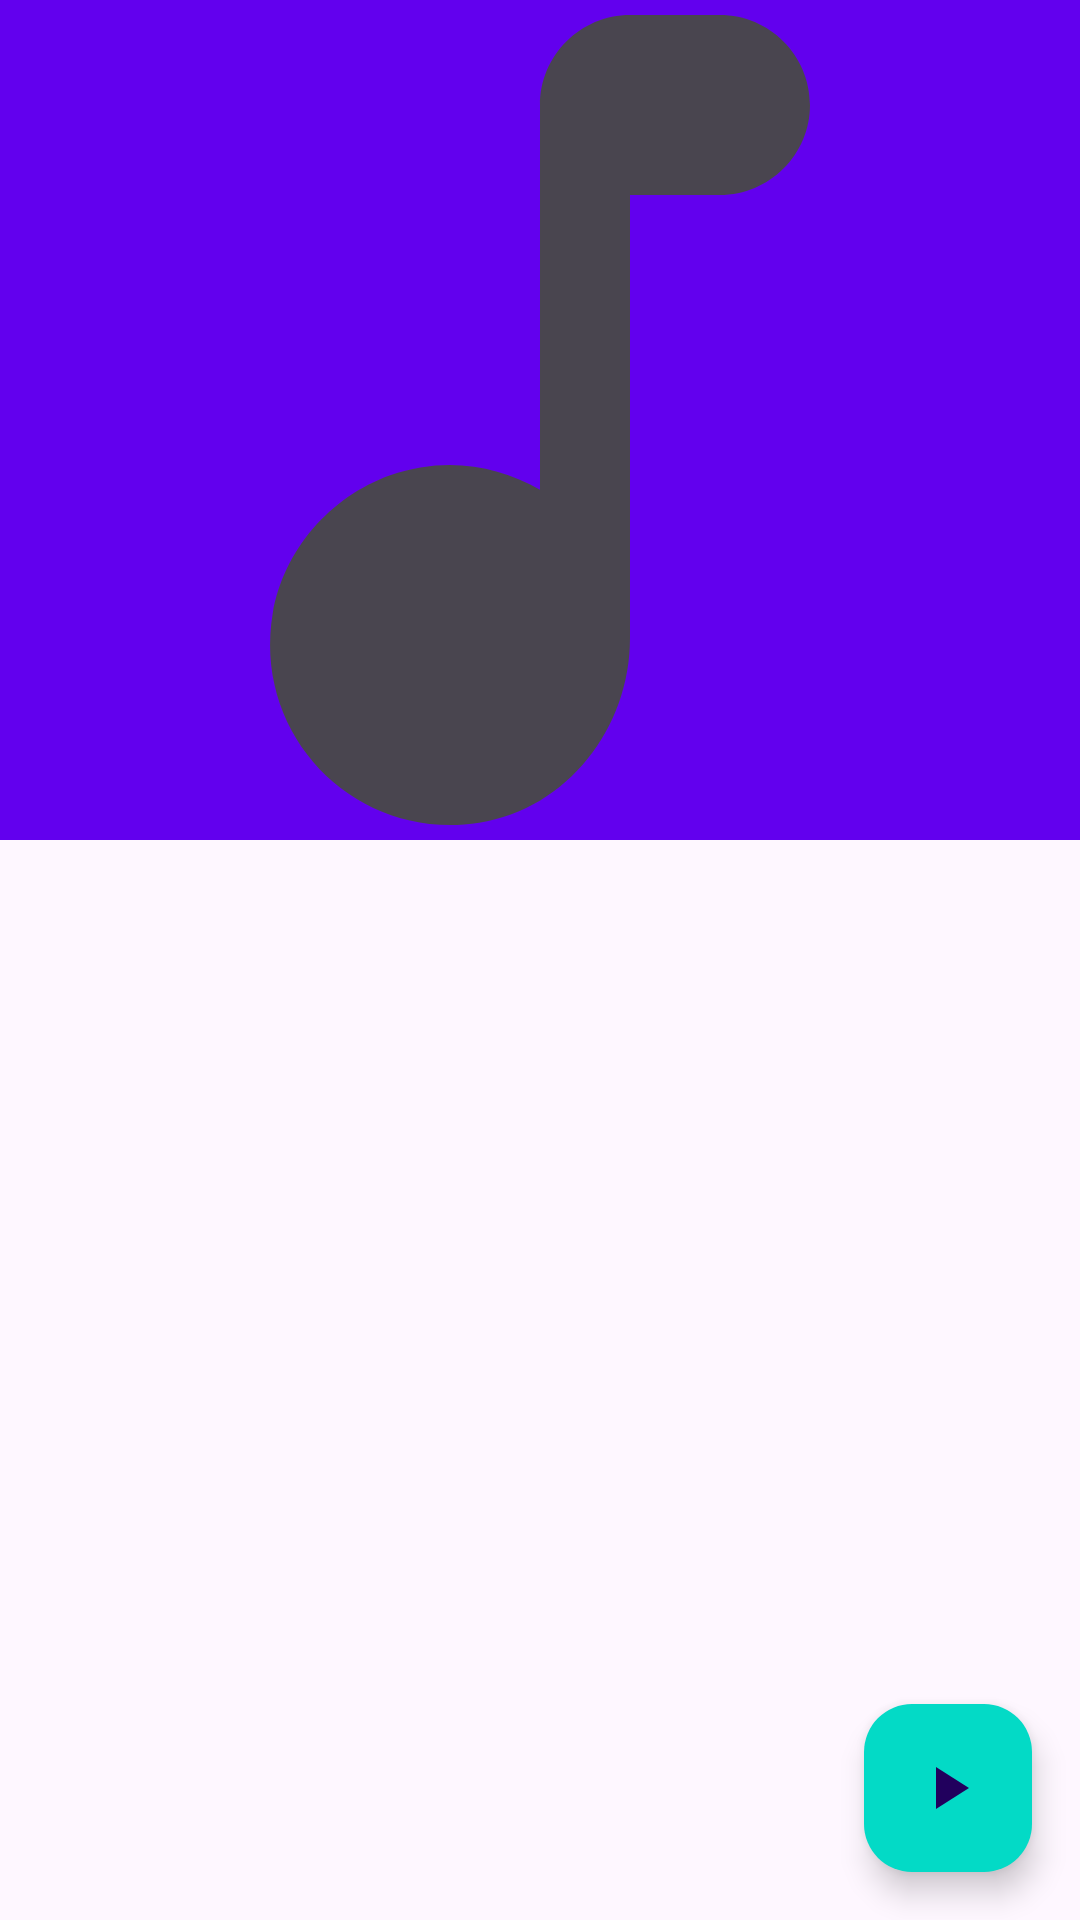

Icon bounding boxes for this 1080px x 1920px phone screenshot, format (x1, y1, x2, y2):
Play this song in external app: (864, 1704, 1032, 1872)
